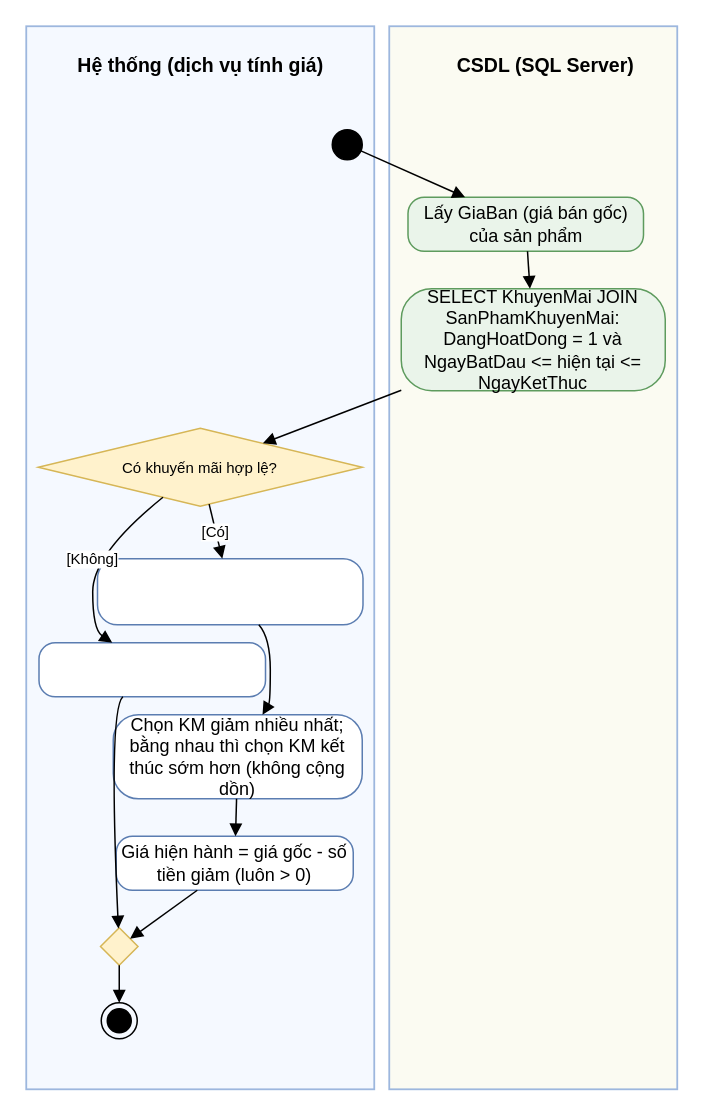
The diagram is 705 pixels wide and 1116 high, and some of its shapes have lost their labels. The shapes that lost their labels are listed below. From the top down, each one's centre as x and y in pixels, then its label:
At pixel 229 591: "Quy đổi mỗi KM ra số tiền giảm: PHAN_TRAM = giá gốc x % ; SO_TIEN = giá trị".
At pixel 152 669: "Giá hiện hành = giá gốc".
